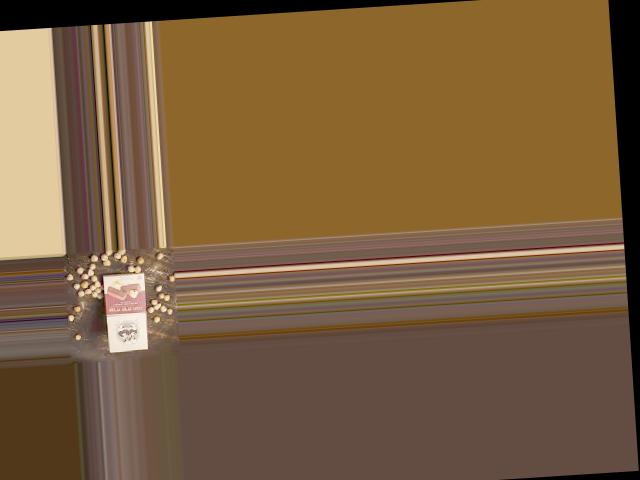chocolate: (99, 270, 151, 354)
